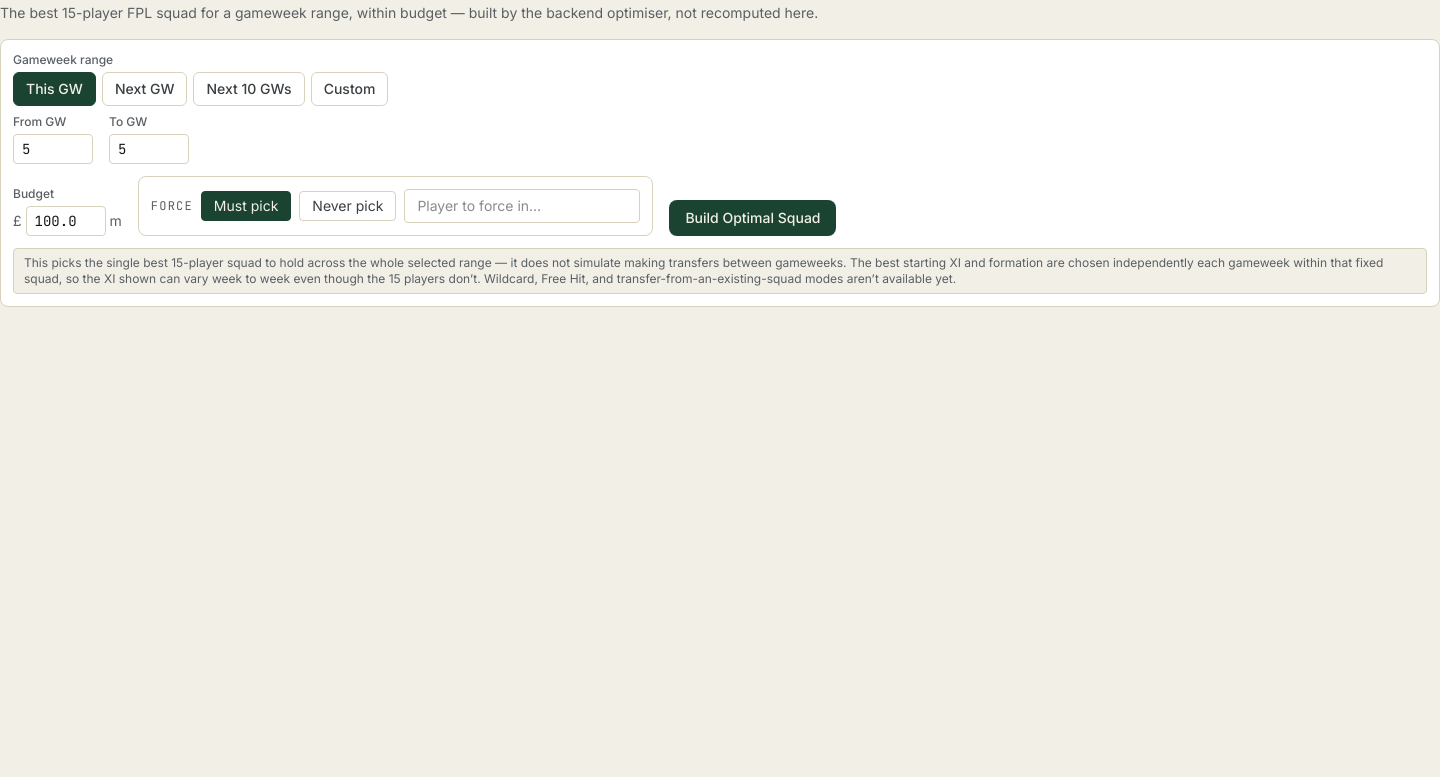
Test: OptimalSquadPage › shows abbreviated club names and a single-letter C/V badge for the currently-viewed week only
Expected: the button "This GW" is shown, left=13, top=72, right=96, bottom=106
Click the button "Build Optimal Squad". click: (753, 218)
box: left=669, top=200, right=836, bottom=236
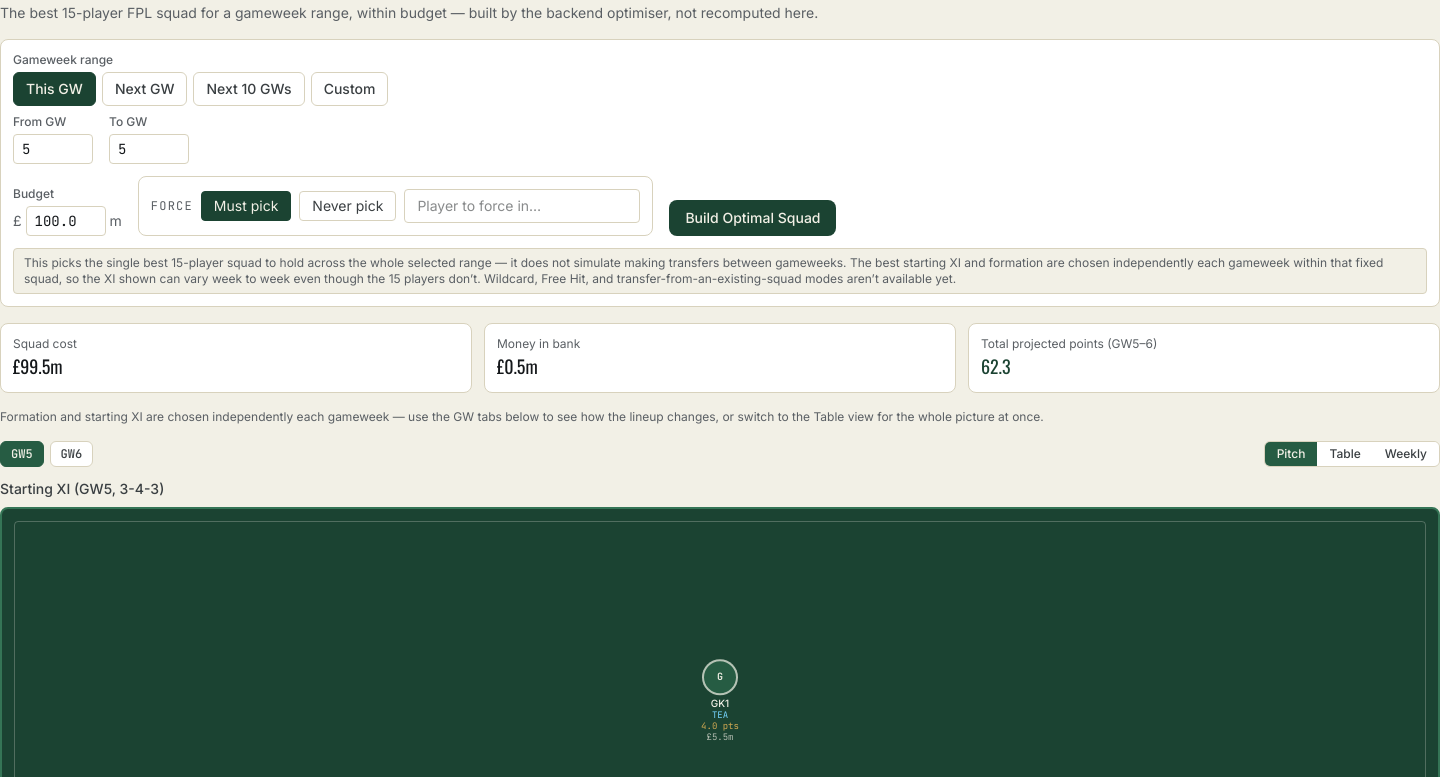
Click the button "GW6". click: (71, 454)
box: left=50, top=441, right=93, bottom=467
(page scrolled)
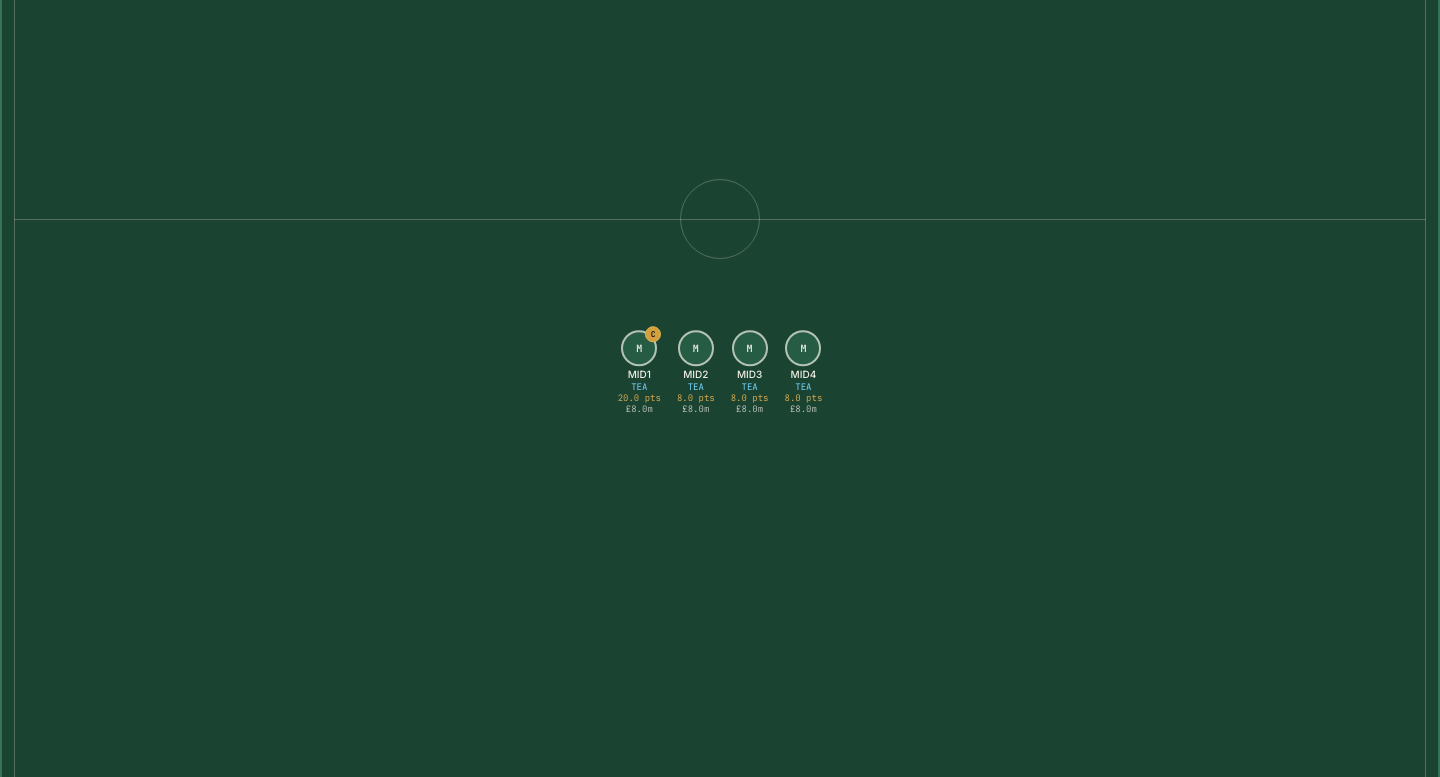
Now the element titled "MID1 — Team — £8.0m • Captain, GW6" is shown, box left=618, top=330, right=661, bottom=414
